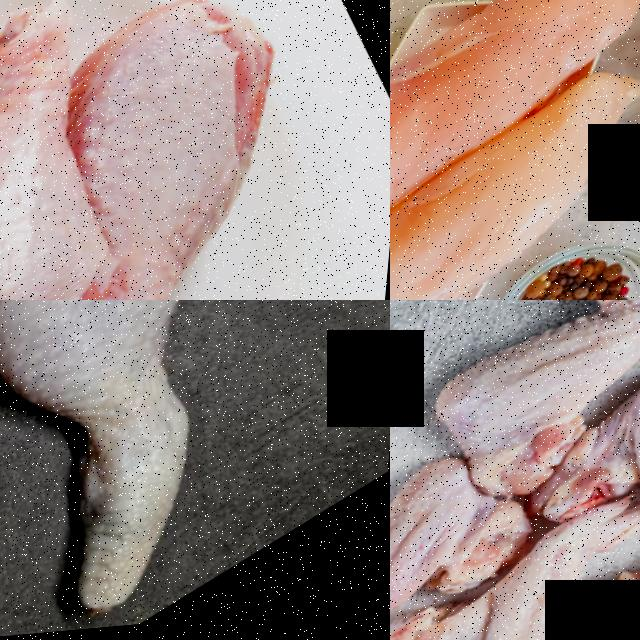chicken breast: (390, 0, 640, 250), (390, 53, 640, 300)
chicken thigh: (0, 300, 374, 640), (0, 0, 390, 300), (0, 0, 209, 300)
chicken wing: (398, 300, 640, 509), (390, 468, 640, 640), (529, 317, 640, 608), (390, 441, 530, 640)
